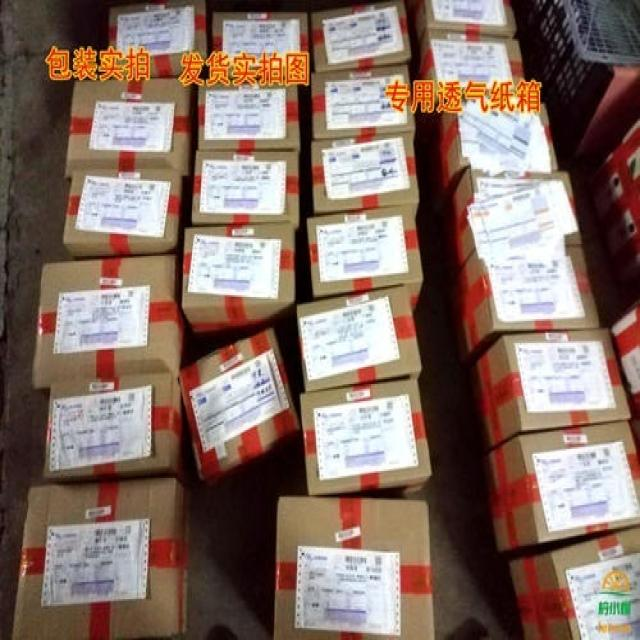box: (12, 478, 192, 638), (273, 497, 435, 640), (31, 254, 192, 389), (468, 328, 632, 454), (483, 422, 640, 551), (179, 326, 301, 488), (64, 77, 192, 220), (525, 0, 640, 154), (452, 246, 600, 365), (44, 372, 189, 485), (300, 379, 431, 497), (509, 526, 640, 640), (453, 169, 584, 276), (296, 285, 421, 393), (182, 224, 296, 340), (439, 101, 559, 207), (306, 205, 424, 312), (63, 167, 183, 259), (408, 31, 529, 121), (311, 131, 419, 220), (588, 119, 640, 285), (192, 150, 300, 229), (311, 63, 416, 138), (110, 0, 209, 79), (310, 0, 412, 72), (198, 79, 300, 150), (211, 14, 310, 79), (404, 0, 516, 56), (609, 299, 640, 422)
